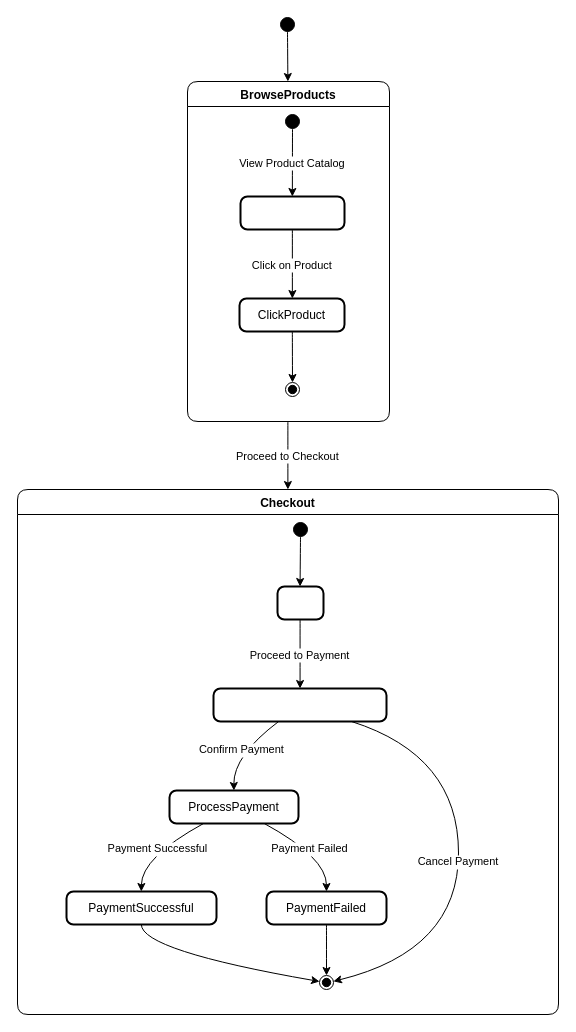
This 576x1032 diagram has some shape labels left out. Each missing label, with the centre of its shape:
"Cart" belongs at point (300, 602).
"SelectPaymentMethod" belongs at point (299, 704).
"ViewCatalog" belongs at point (292, 212).
